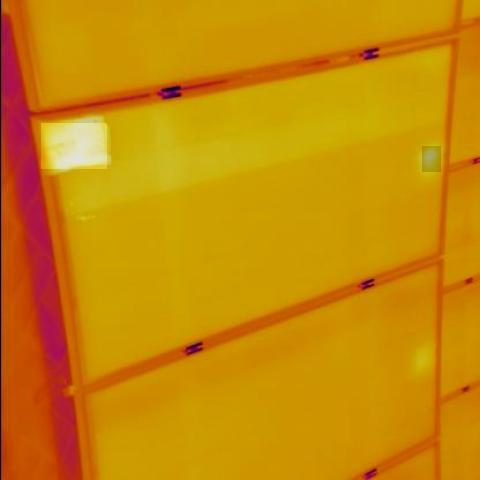fault: (42, 124, 108, 170), (422, 146, 441, 172)
